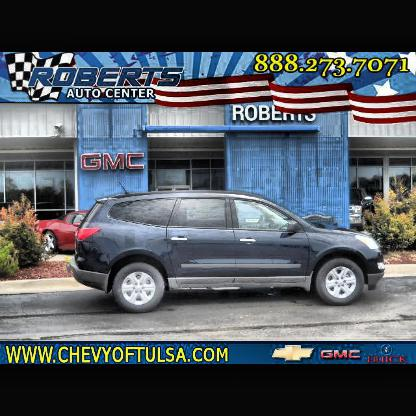Chevrolet Traverse SUV 2012: (68, 187, 389, 317)
